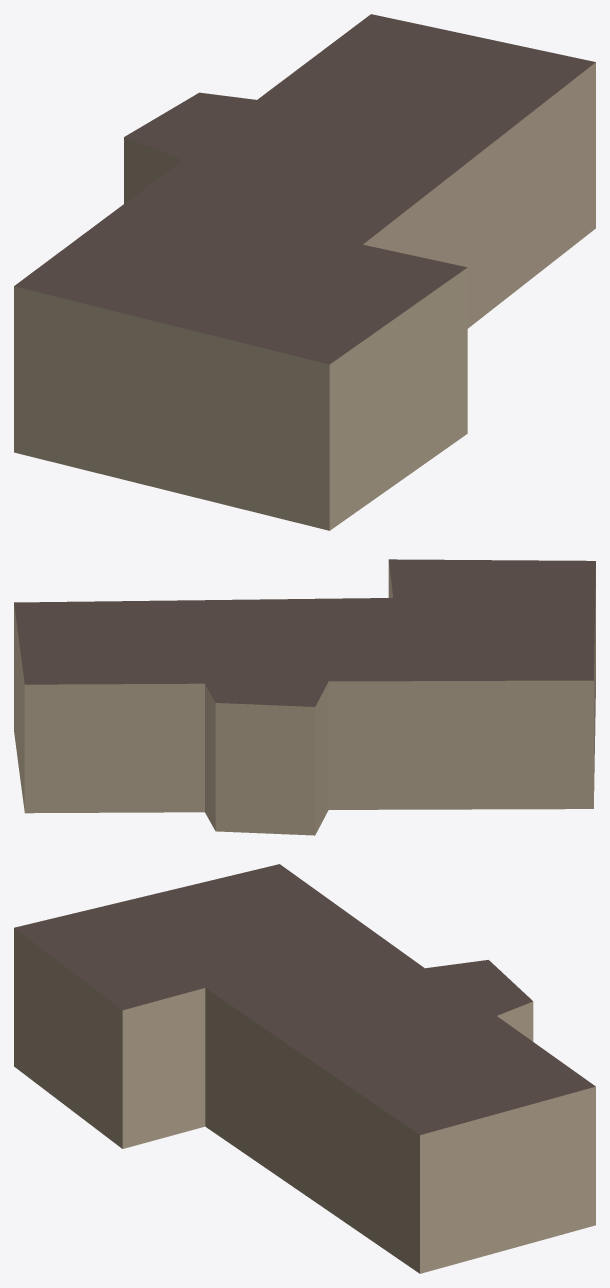
The picture shows the model from 3 angles, top to bottom: view 1: azimuth 30°, elevation 25°; view 2: azimuth 150°, elevation 25°; view 3: azimuth 270°, elevation 25°; orthographic projection. The views are drawn at different scales.
Visible parts, largest first — view 1: HP-w1515076979; view 2: HP-w1515076979; view 3: HP-w1515076979.
Boxes of the visible parts, <box> form: HP-w1515076979: <box>14,14,595,530</box>; HP-w1515076979: <box>14,559,595,835</box>; HP-w1515076979: <box>14,864,595,1273</box>.
Size of the model in its own units: 37.72 by 9 by 34.22.
